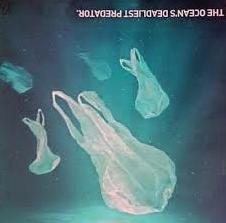Trash: (58, 80, 181, 221), (116, 53, 172, 117), (28, 103, 65, 183)
